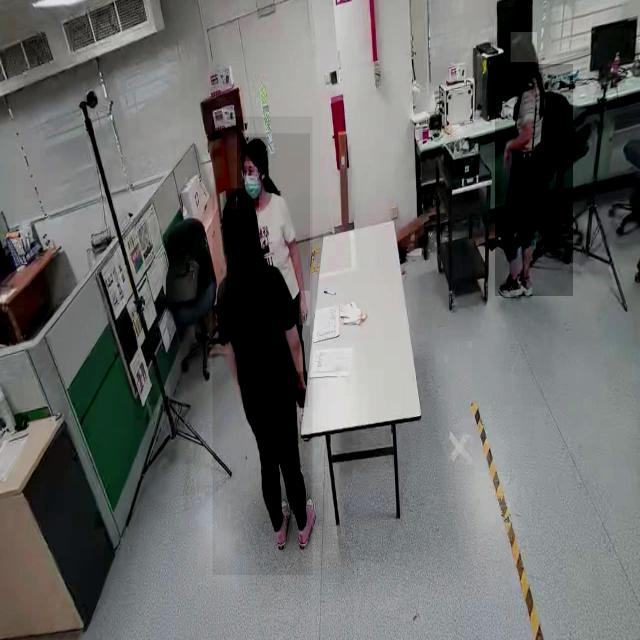face_mask: (242, 157, 262, 200)
hand_noglove: (296, 372, 308, 408), (298, 291, 310, 326), (503, 139, 513, 169)
head_nohelmet: (222, 188, 259, 222), (510, 32, 537, 63), (241, 137, 269, 162)
person: (212, 116, 312, 576), (237, 133, 310, 385), (495, 64, 573, 297)
shoes: (295, 494, 319, 554), (496, 264, 525, 306), (273, 496, 293, 552)
